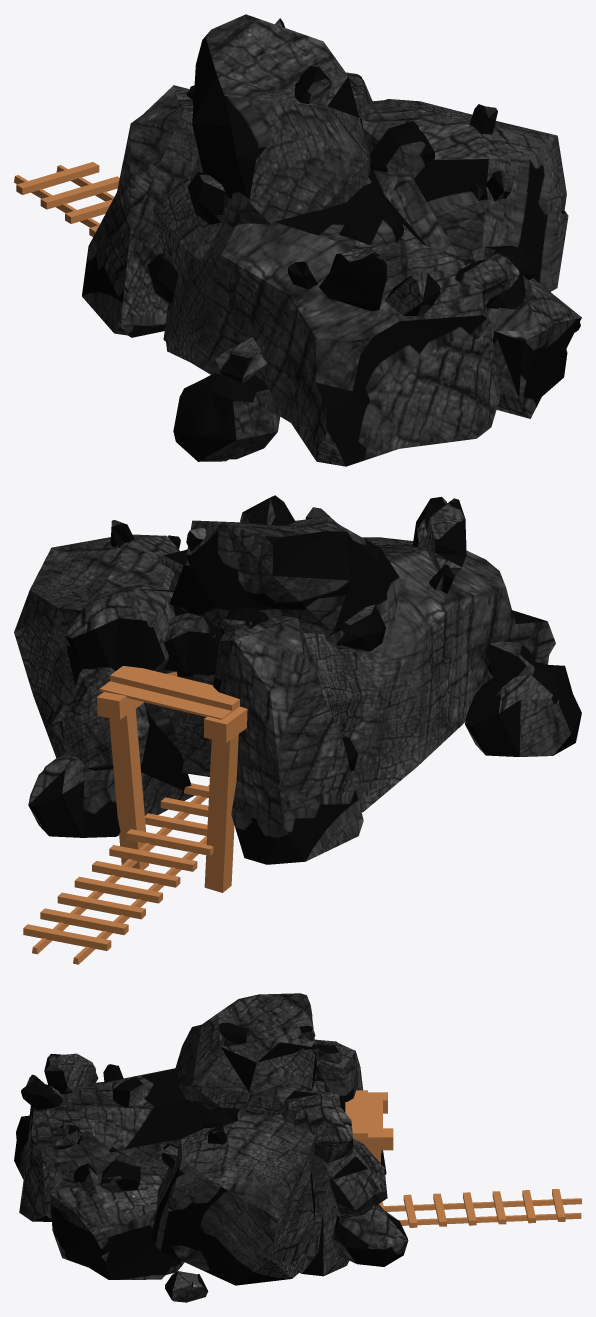
The model's file is Mine_Final2.fbx.
3 views of the same model, one above another, from view 1: azimuth 30°, elevation 25°; view 2: azimuth 150°, elevation 25°; view 3: azimuth 270°, elevation 25° (orthographic). The views are drawn at different scales.
Parts seen in each view (by area): view 1: rail; view 2: rail; view 3: rail.
Part boxes in pixels (x1=…): rail: x1=14, y1=14, x2=581, y2=466; rail: x1=14, y1=495, x2=581, y2=964; rail: x1=14, y1=993, x2=581, y2=1302.
Bounding box in the file's own units: 714 × 495 × 1084.
